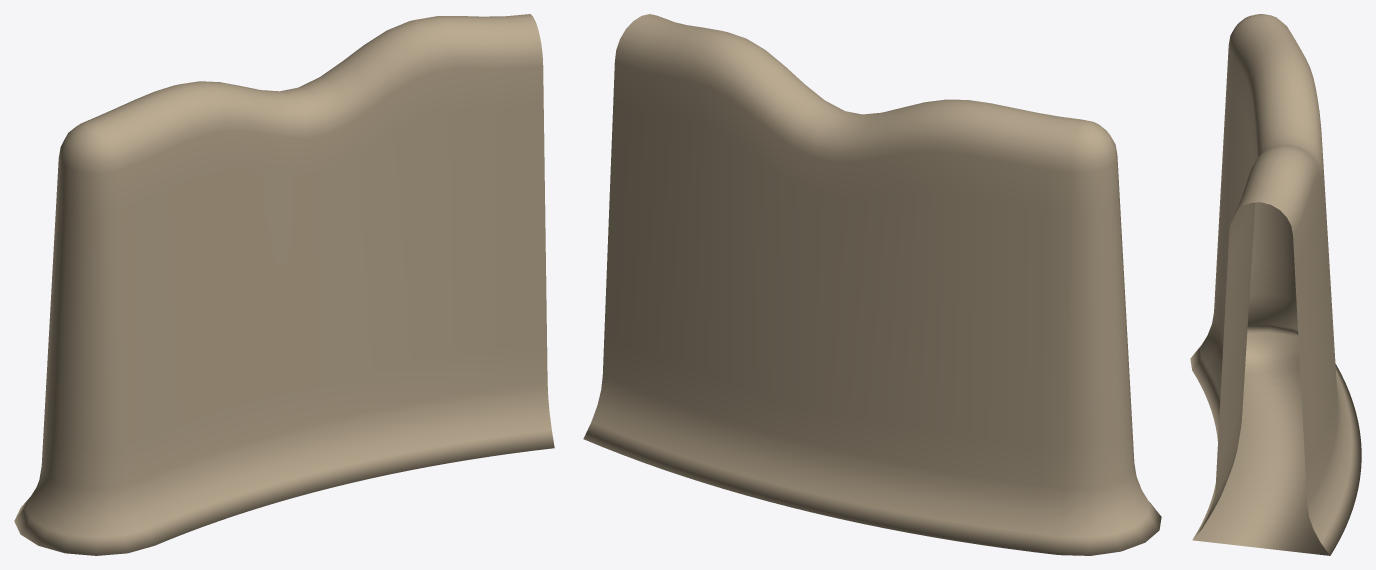
File: KFB_Wall_curved_ring_r2_capB.r3.glb
3 views of the same model, side by side, from view 1: azimuth 30°, elevation 25°; view 2: azimuth 150°, elevation 25°; view 3: azimuth 270°, elevation 25° (orthographic). The views are drawn at different scales.
Visible parts, largest first — view 1: KFB_Wall_curved_ring_r2_capB; view 2: KFB_Wall_curved_ring_r2_capB; view 3: KFB_Wall_curved_ring_r2_capB.
Boxes of the visible parts, x1=… form: KFB_Wall_curved_ring_r2_capB: x1=14, y1=14, x2=554, y2=555; KFB_Wall_curved_ring_r2_capB: x1=583, y1=14, x2=1161, y2=555; KFB_Wall_curved_ring_r2_capB: x1=1190, y1=14, x2=1361, y2=555.
Bounding box in the file's own units: 4.99 × 3.7 × 1.62.
